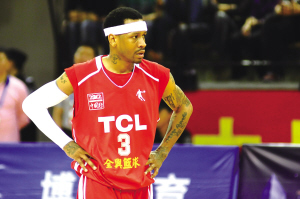other: (18, 6, 200, 194)
